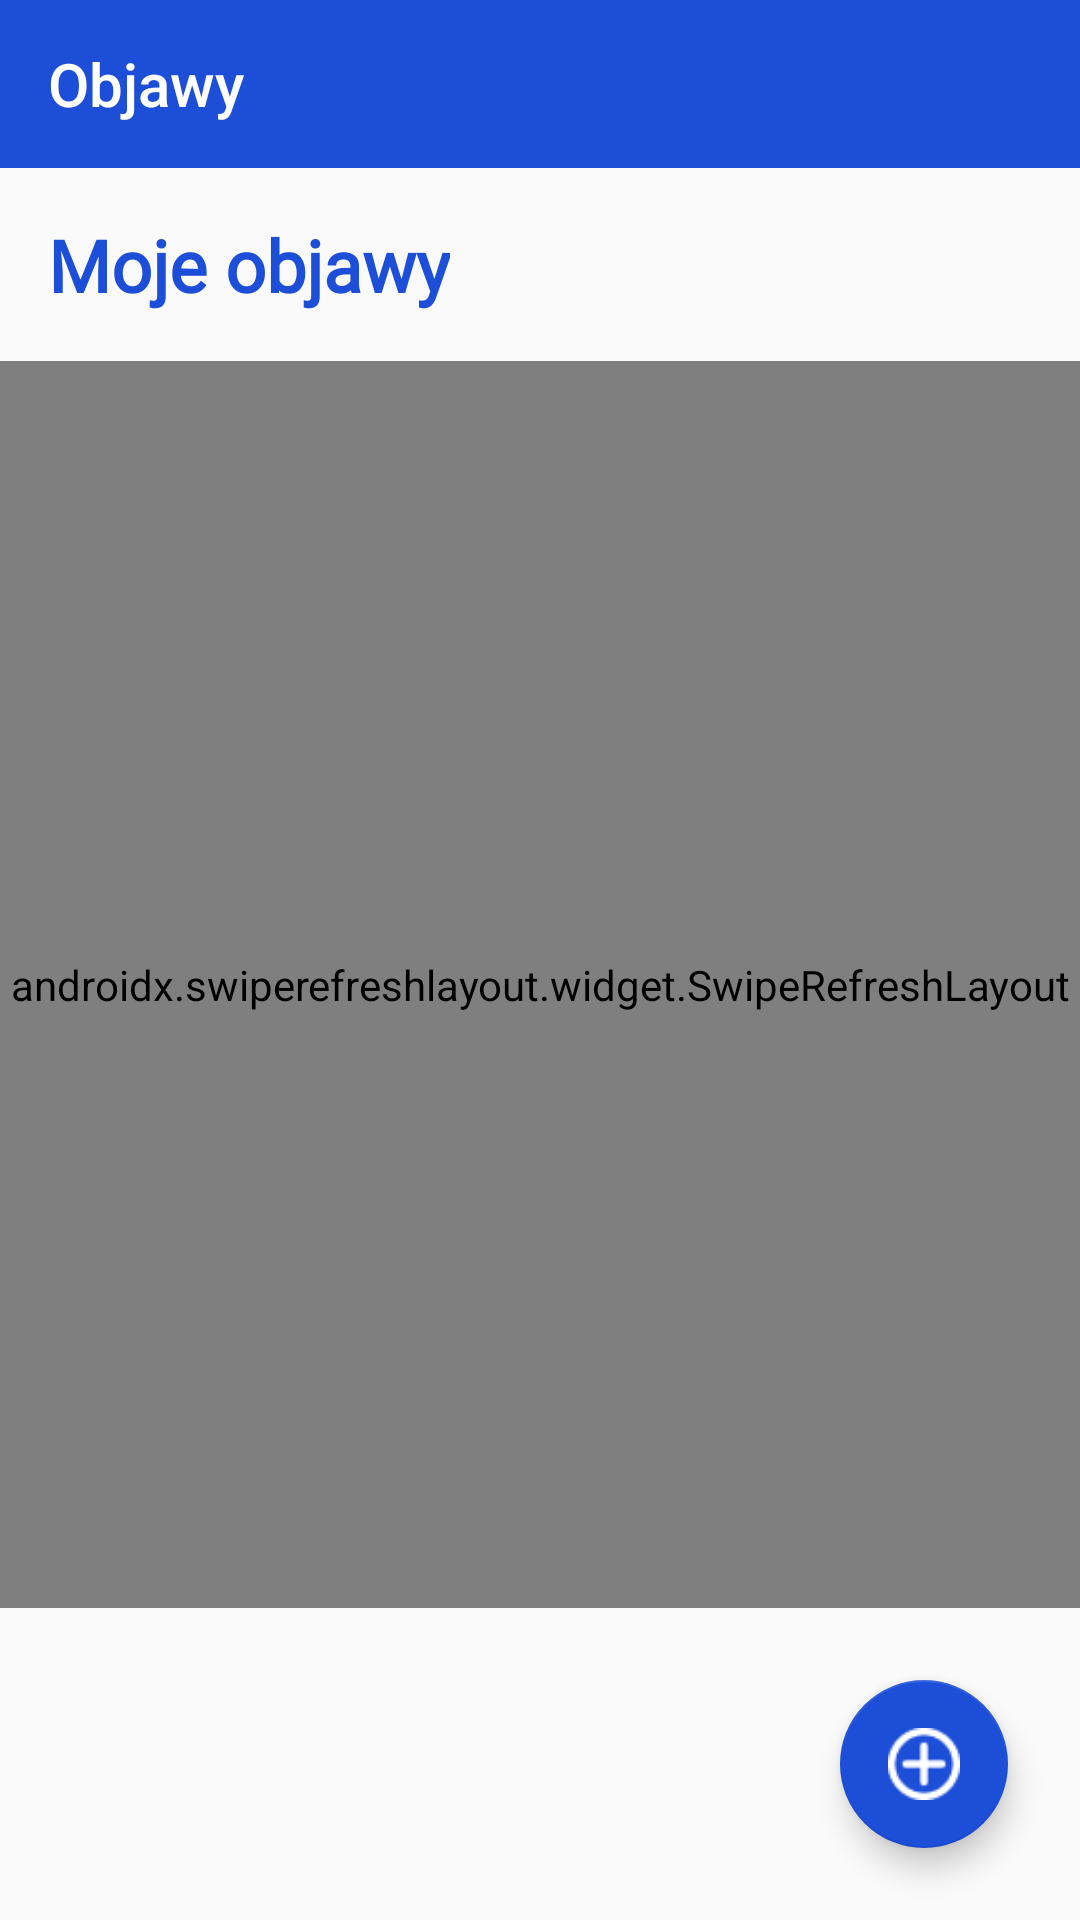

Icon bounding boxes for this 1080*1920 phone screenshot, format [x1, y1, x2, y2]:
Dodaj objaw: [840, 1680, 1008, 1848]
